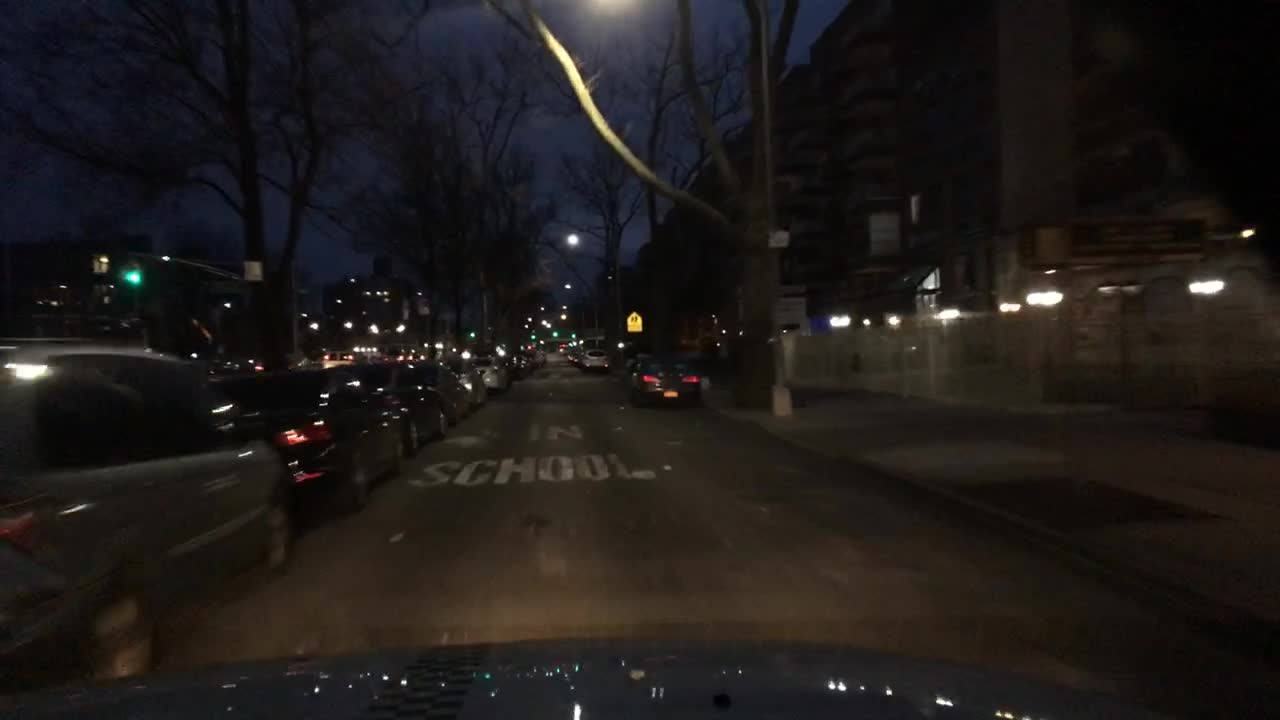car: (0, 338, 290, 691), (218, 359, 414, 515), (368, 358, 451, 454), (627, 351, 702, 409), (417, 361, 472, 424), (449, 360, 489, 407), (477, 356, 506, 396), (580, 346, 613, 374), (506, 354, 527, 379), (569, 341, 578, 364), (531, 349, 547, 358)
traffic light: (123, 269, 140, 287)
traffic sign: (628, 312, 640, 330)
